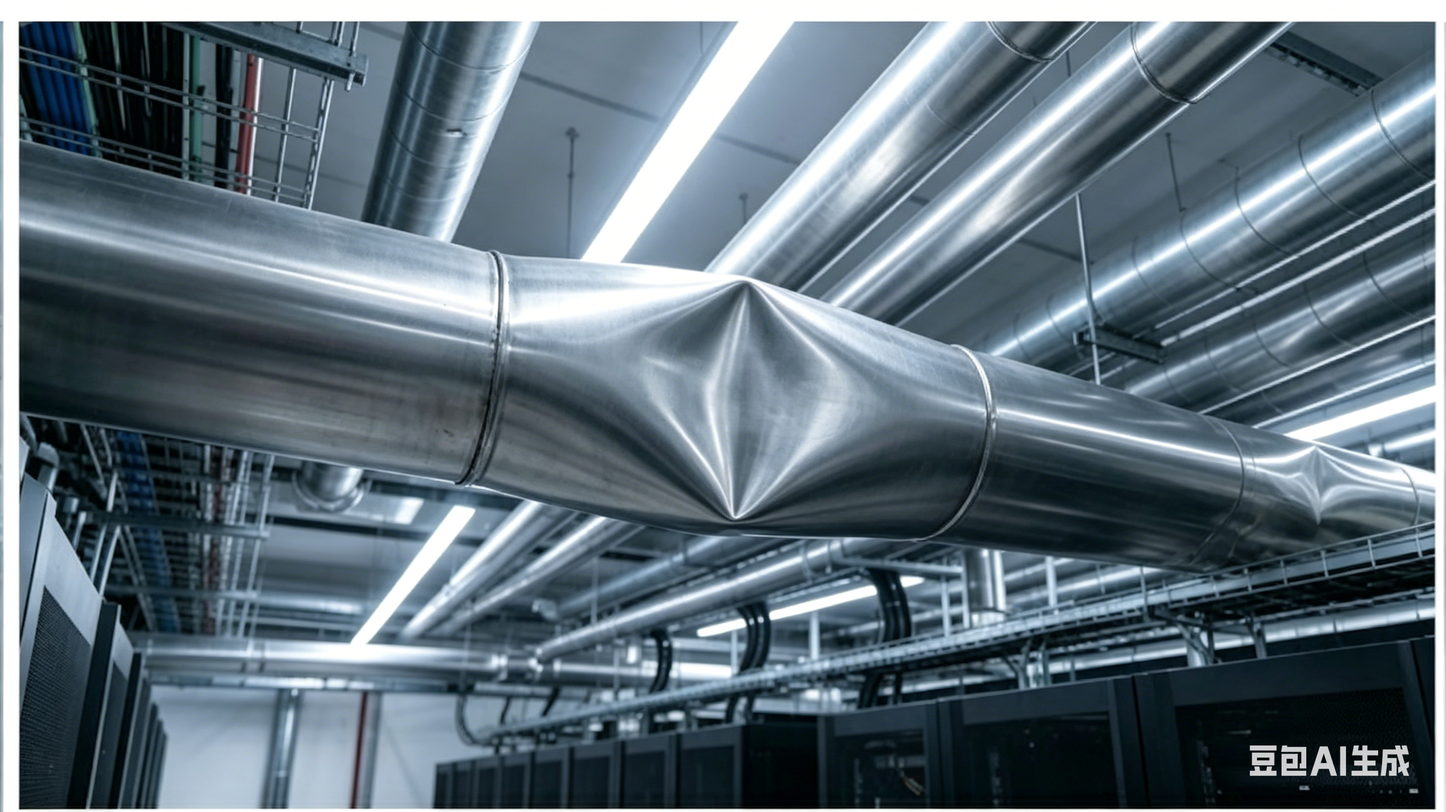Leakage: (586, 266, 882, 540), (1233, 425, 1406, 525)
